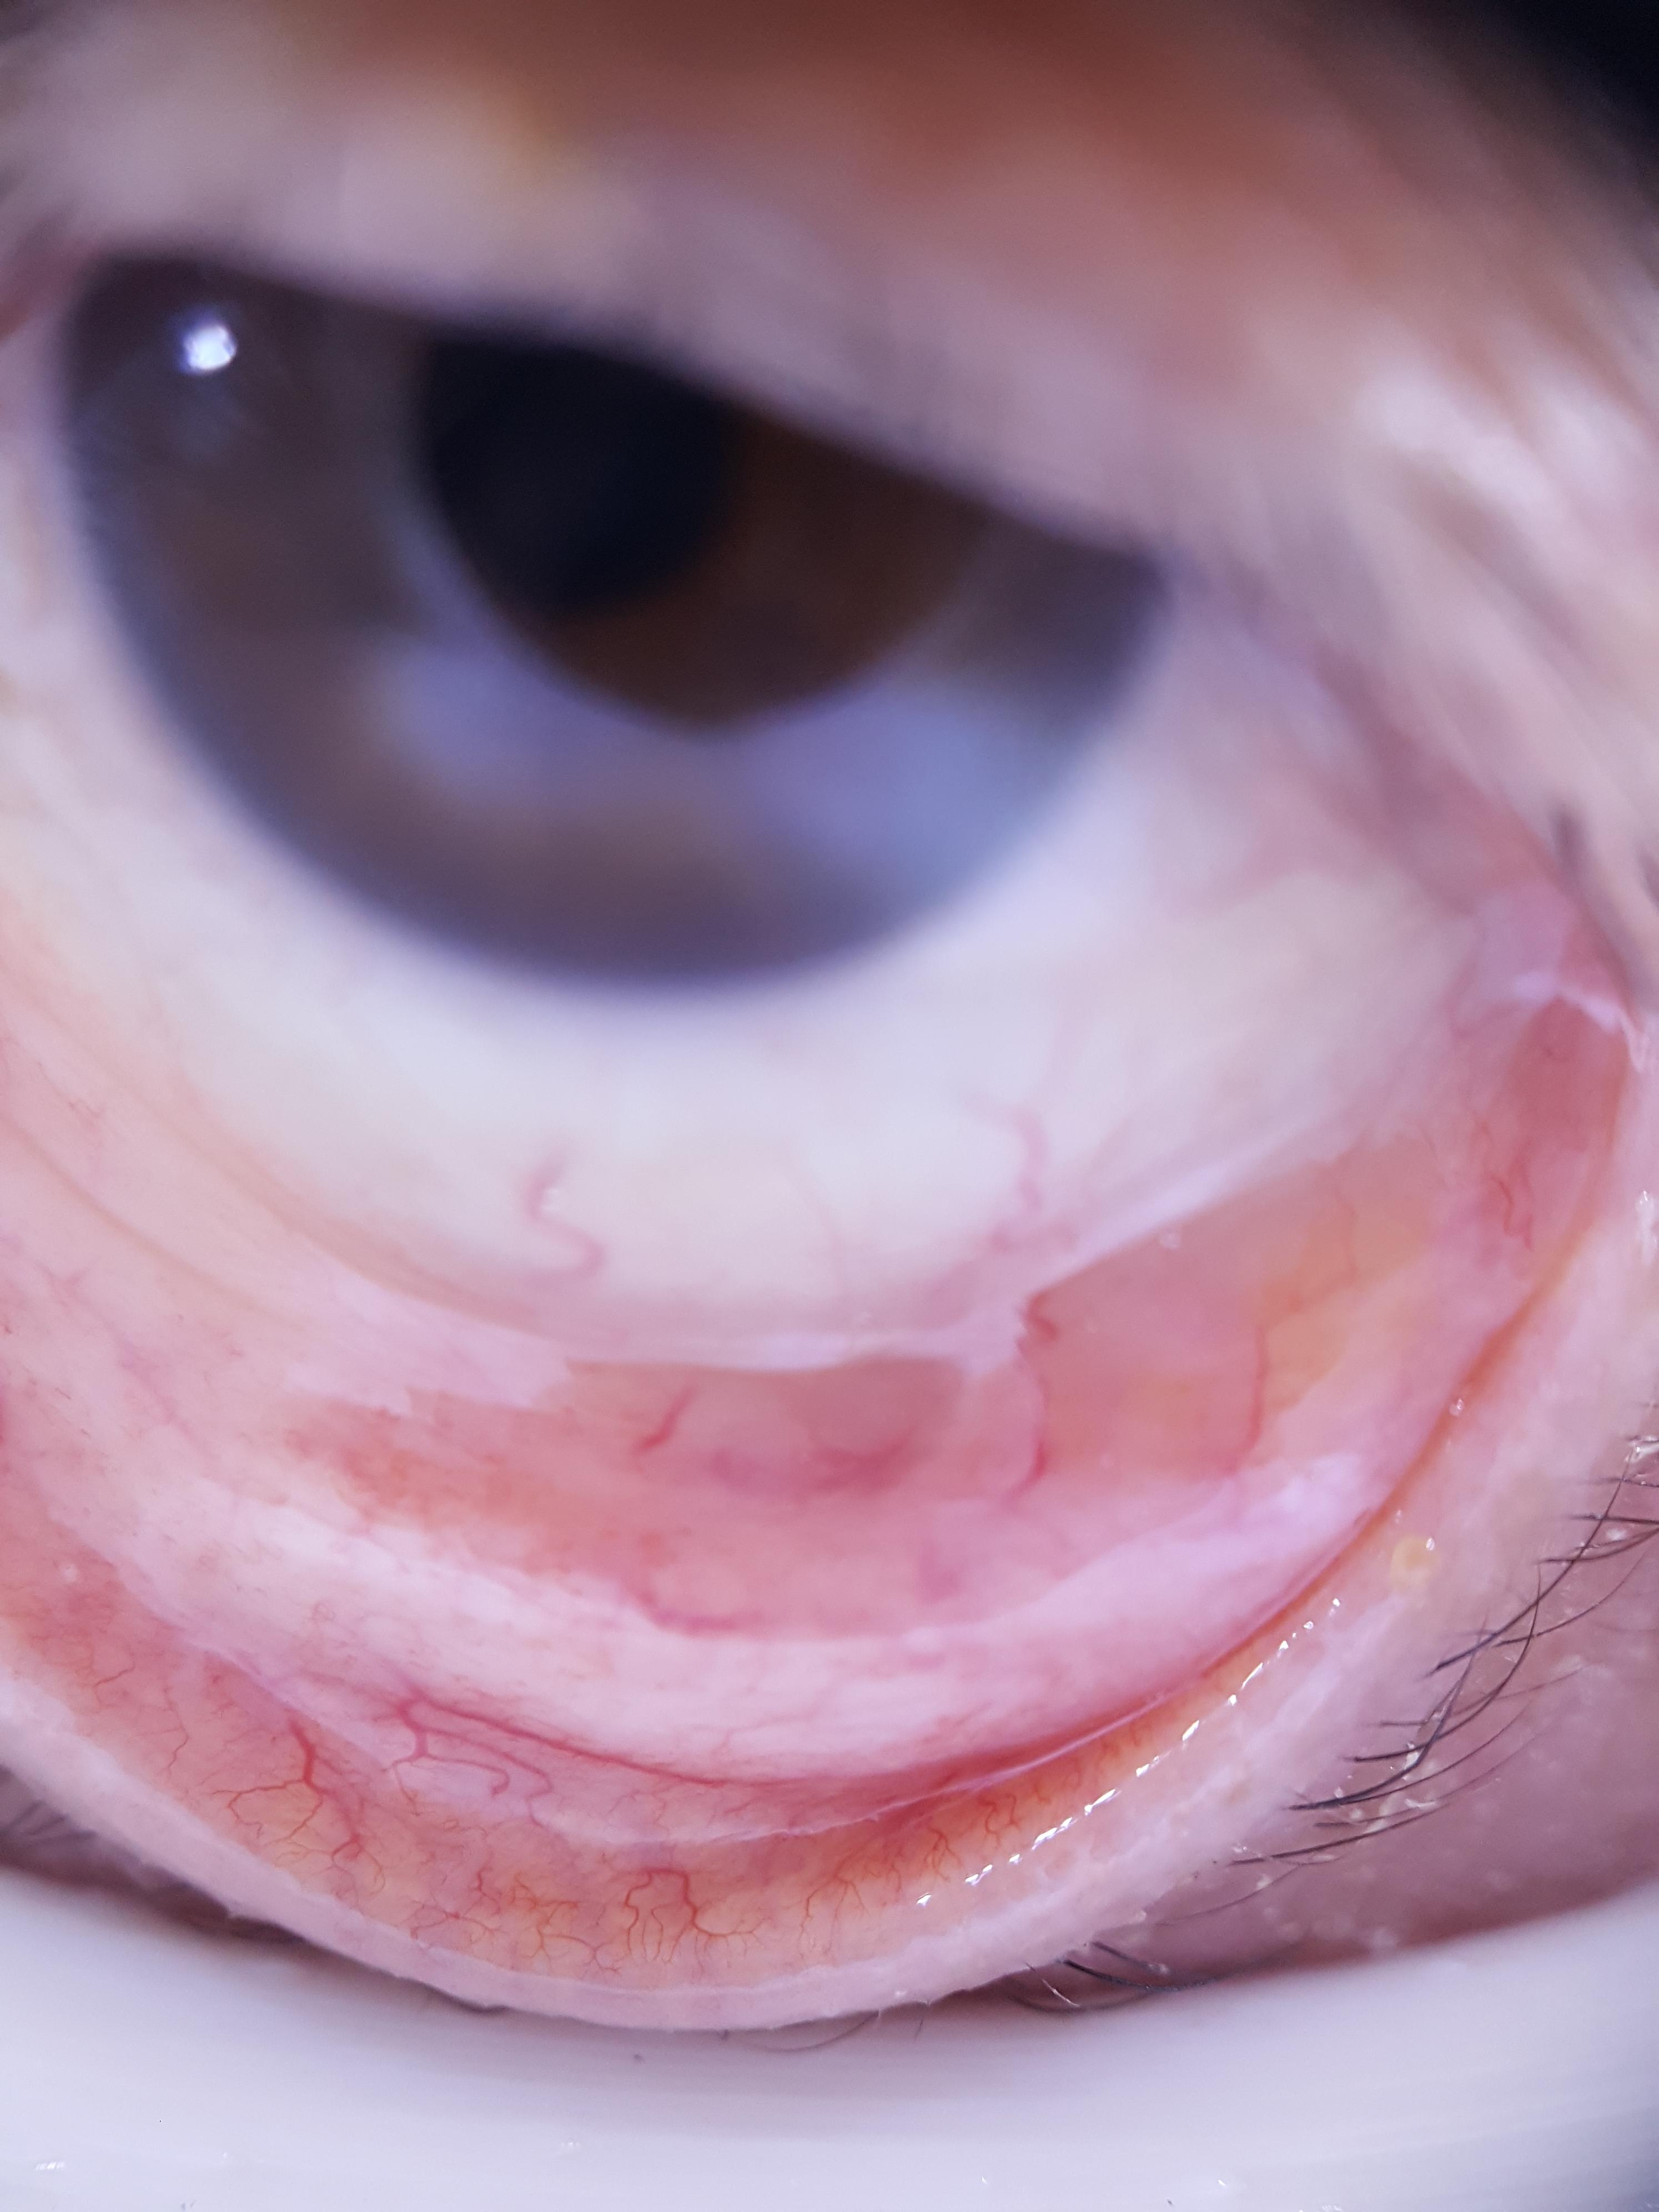forniceal: (0, 927, 1621, 1850)
forniceal_palpebral: (0, 949, 1633, 1982)
palpebral: (10, 1472, 1344, 1982)
